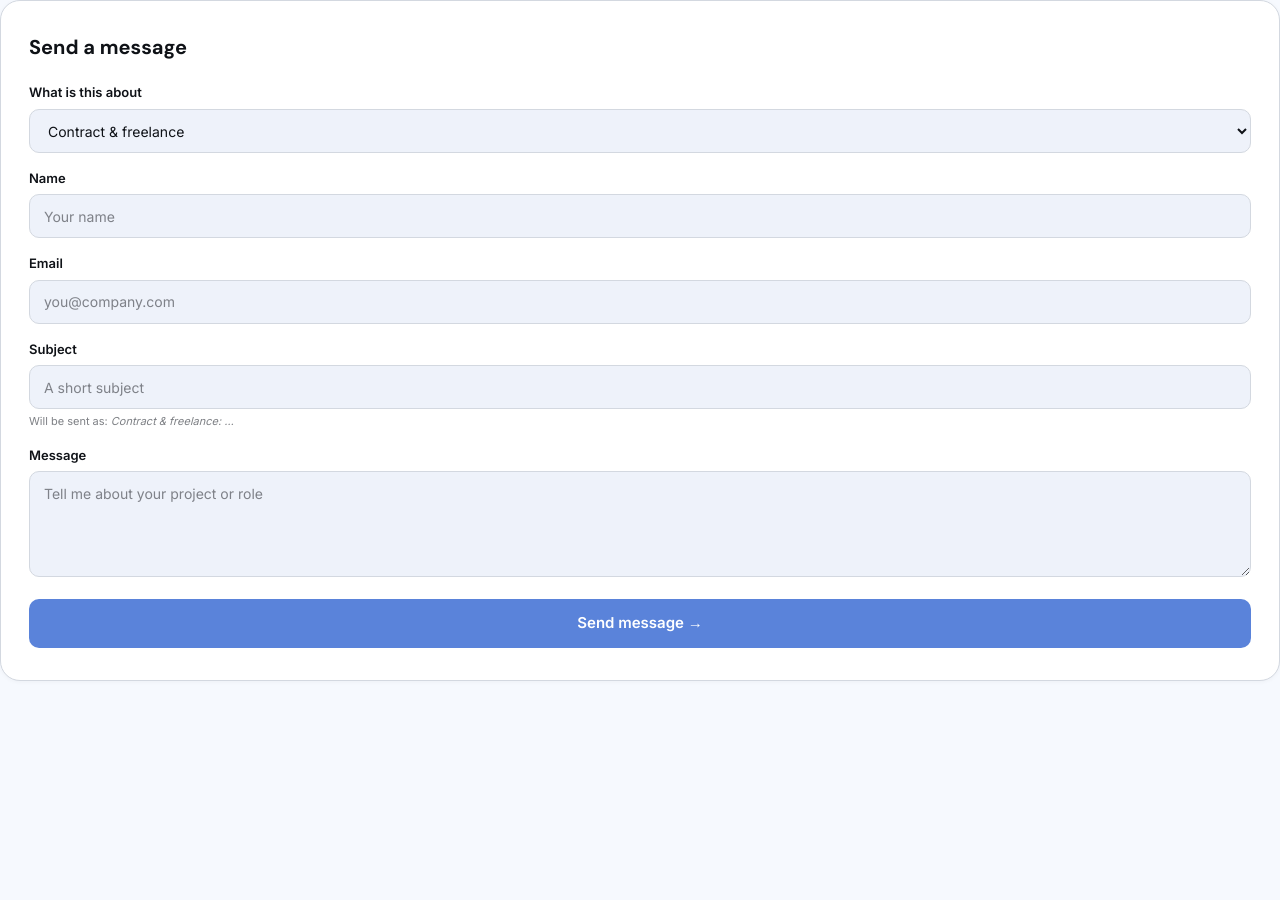
Test: ContactForm › shows subject preview with current type and subject
This screenshot has width=1280, height=900.
In the field with placeholder "A short subject": (640, 387) [29,365,1251,409], type "My topic"
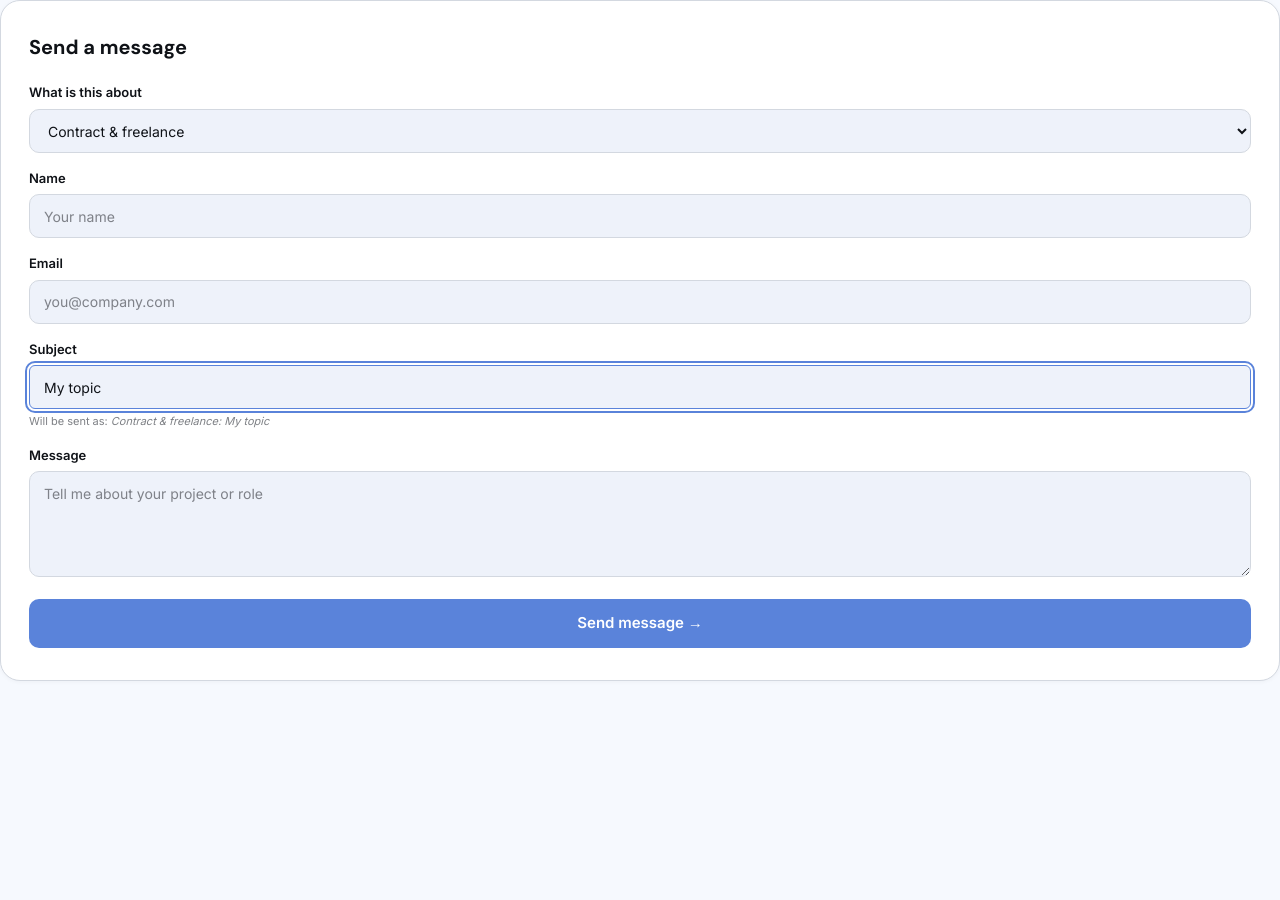
Expected: the text "Contract & freelance: My topic" is shown, [111,414,269,428]
